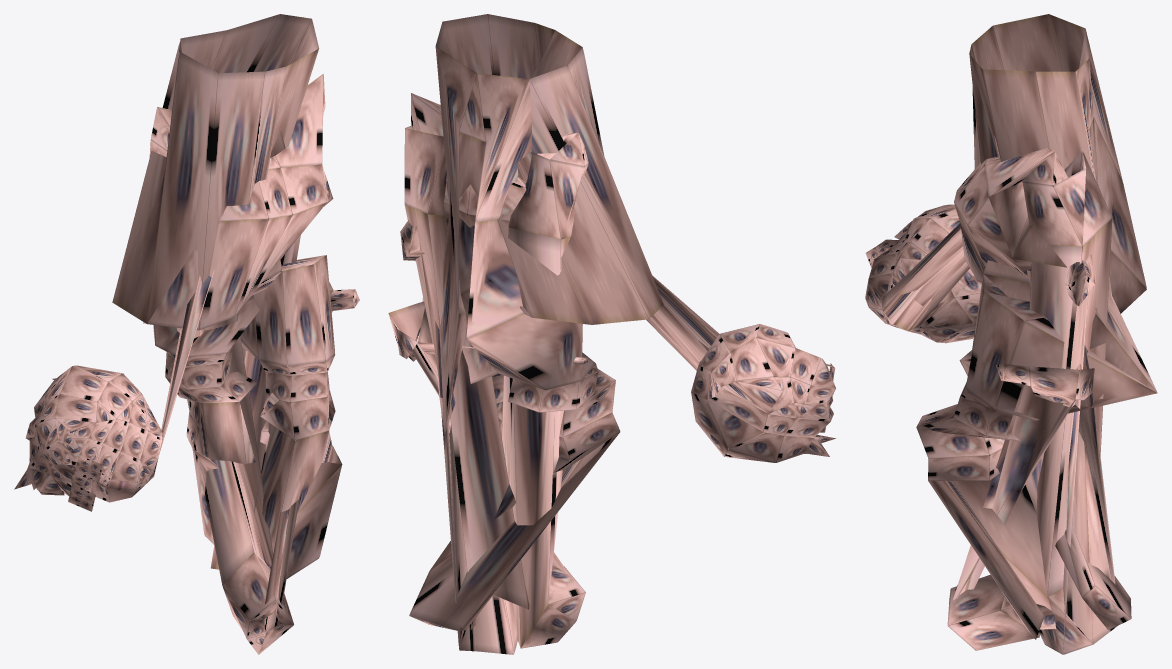
3 views of the same model, side by side, from view 1: azimuth 30°, elevation 25°; view 2: azimuth 150°, elevation 25°; view 3: azimuth 270°, elevation 25° (orthographic). The views are drawn at different scales.
Parts seen in each view (by area): view 1: T1L7M006_2; view 2: T1L7M006_2; view 3: T1L7M006_2.
Boxes of the visible parts, x1,y1,x2,y2 form: T1L7M006_2: (14, 14, 359, 654); T1L7M006_2: (388, 14, 835, 654); T1L7M006_2: (865, 14, 1157, 654).
Bounding box in the file's own units: 0.8183 × 1.27 × 0.5406.
